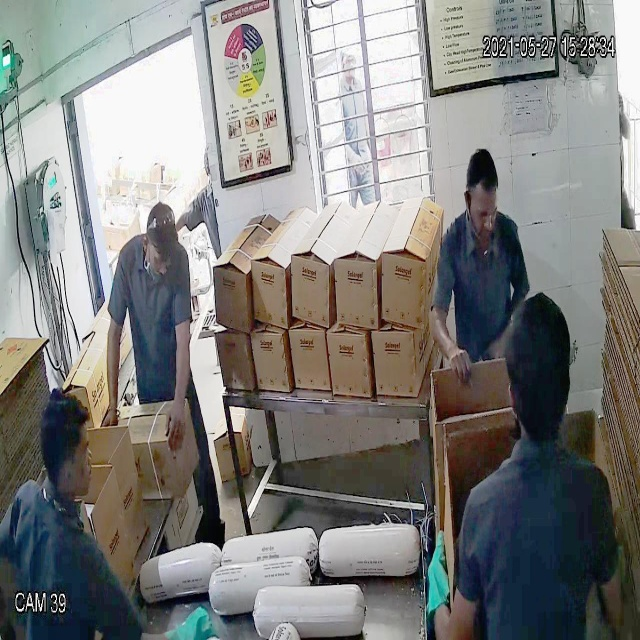Sin_gafas: (466, 196, 500, 226)
